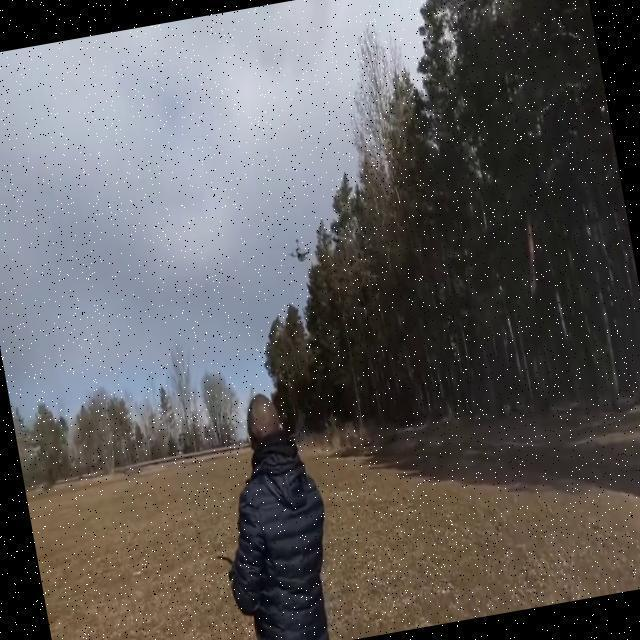Drons: (284, 234, 314, 267)
